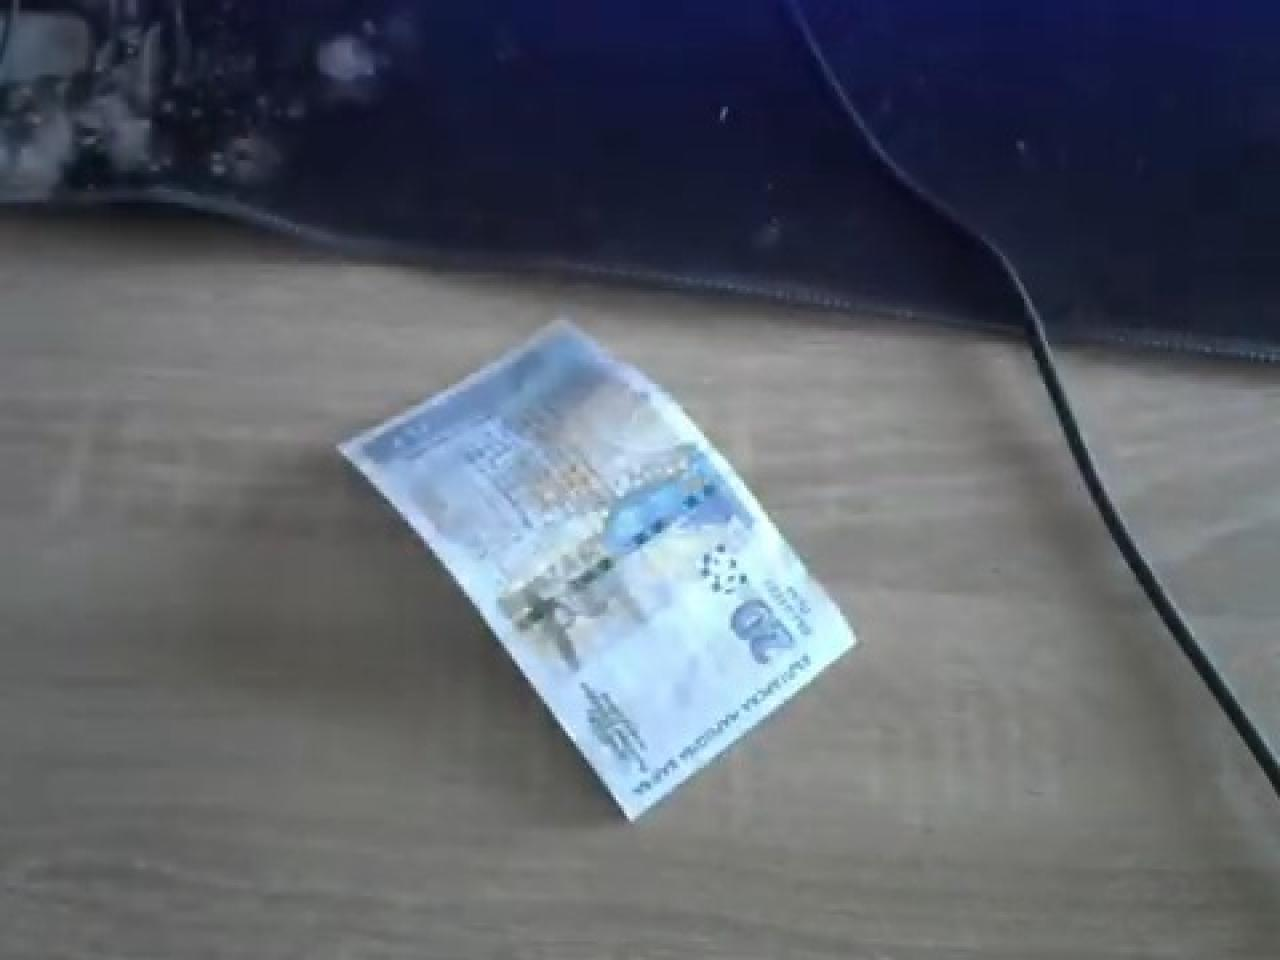20leva: (334, 320, 859, 824)
